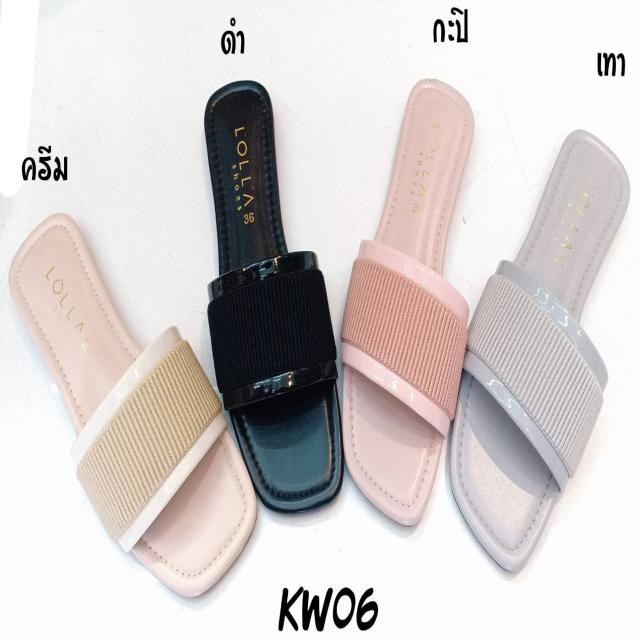black: (206, 79, 345, 507)
cream: (5, 212, 257, 600)
grey: (448, 130, 632, 570)
kapi: (344, 78, 473, 528)
